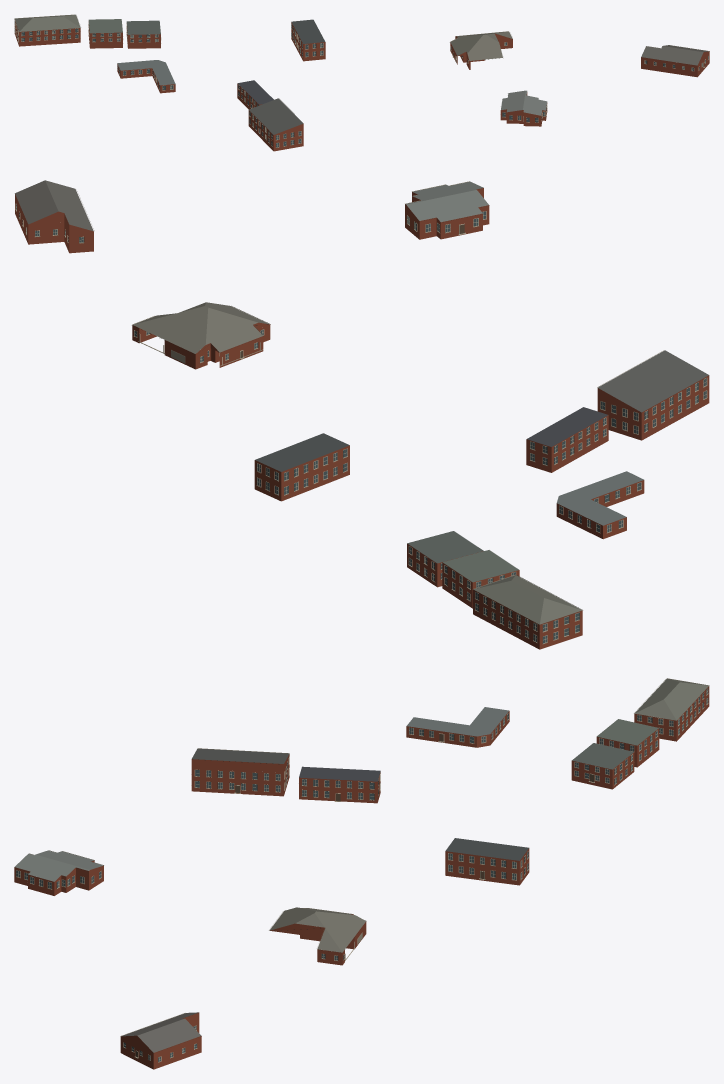
3 views of the same model, one above another, from view 1: azimuth 30°, elevation 25°; view 2: azimuth 150°, elevation 25°; view 3: azimuth 270°, elevation 25° (orthographic). The views are drawn at different scales.
Visible parts, largest first — view 1: -3_2_598392601_0; view 2: -3_2_598392601_0; view 3: -3_2_598392601_0.
Part boxes in pixels (<box>): -3_2_598392601_0: <box>14,14,709,151</box>; -3_2_598392601_0: <box>15,180,709,649</box>; -3_2_598392601_0: <box>14,678,709,1069</box>.
Bounding box in the file's own units: 286 × 21.96 × 236.
